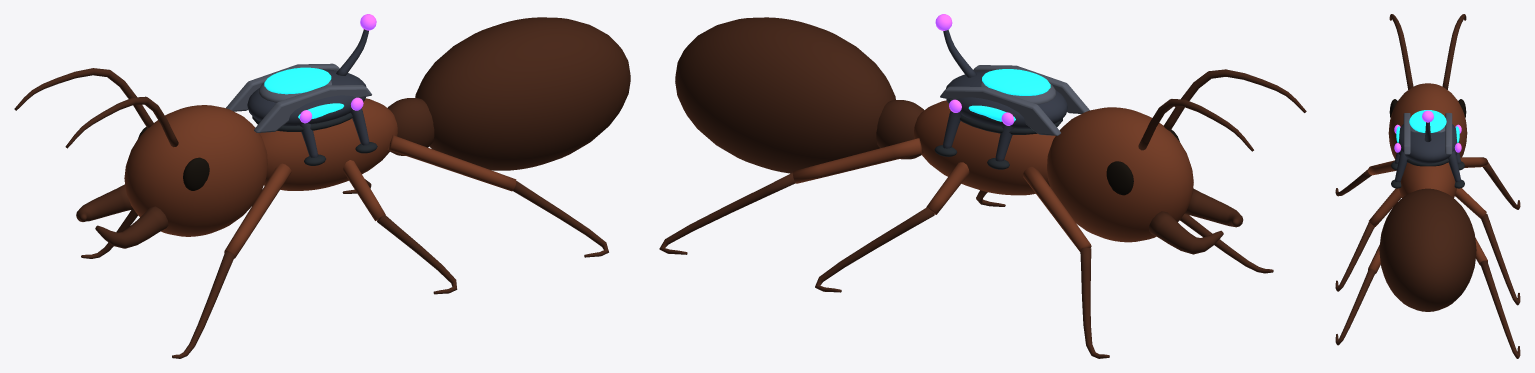
The model's file is controlled_ant.glb.
The picture shows the model from 3 angles, left to right: view 1: azimuth 30°, elevation 25°; view 2: azimuth 150°, elevation 25°; view 3: azimuth 270°, elevation 25°; orthographic projection. The views are drawn at different scales.
Visible parts, largest first — view 1: Gaster, Head, AlienControlDeviceGeometry, Thorax, Leg_-1_2Geometry, Leg_-1_0Geometry, Leg_-1_1Geometry, Petiole, Mandible_-1, ElbowedAntenna_1, Mandible_1, ElbowedAntenna_-1 (+1 smaller); view 2: Gaster, Head, AlienControlDeviceGeometry, Thorax, Leg_1_2Geometry, Leg_1_0Geometry, Leg_1_1Geometry, Petiole, Mandible_1, ElbowedAntenna_-1, Mandible_-1, ElbowedAntenna_1 (+2 smaller); view 3: Gaster, AlienControlDeviceGeometry, Head, Thorax, Leg_1_1Geometry, Leg_-1_1Geometry, Leg_1_2Geometry, Leg_-1_2Geometry, Leg_1_0Geometry, Leg_-1_0Geometry, ElbowedAntenna_1, ElbowedAntenna_-1.
Part boxes in pixels (box(x1,y1,x2,y2)): Gaster: box(415, 17, 630, 170); Head: box(124, 105, 267, 236); AlienControlDeviceGeometry: box(226, 14, 377, 165); Thorax: box(259, 98, 397, 190); Leg_-1_2Geometry: box(387, 135, 608, 257); Leg_-1_0Geometry: box(172, 163, 291, 358); Leg_-1_1Geometry: box(343, 160, 457, 294); Petiole: box(387, 98, 434, 155); Mandible_-1: box(95, 206, 168, 248); ElbowedAntenna_1: box(14, 68, 153, 128); Mandible_1: box(76, 184, 133, 221); ElbowedAntenna_-1: box(65, 96, 178, 148); Gaster: box(675, 17, 895, 173); Head: box(1047, 107, 1193, 242); AlienControlDeviceGeometry: box(934, 14, 1089, 169); Thorax: box(913, 100, 1055, 195); Leg_1_2Geometry: box(659, 138, 923, 254); Leg_1_0Geometry: box(1022, 166, 1109, 358); Leg_1_1Geometry: box(815, 162, 969, 292); Petiole: box(876, 100, 924, 159); Mandible_1: box(1149, 211, 1223, 254); ElbowedAntenna_-1: box(1163, 69, 1306, 130); Mandible_-1: box(1184, 188, 1243, 227); ElbowedAntenna_1: box(1138, 99, 1253, 151); Gaster: box(1379, 188, 1476, 311); AlienControlDeviceGeometry: box(1391, 110, 1464, 188); Head: box(1388, 83, 1467, 159); Thorax: box(1399, 162, 1456, 197); Leg_1_1Geometry: box(1455, 188, 1520, 305); Leg_-1_1Geometry: box(1335, 188, 1401, 291); Leg_1_2Geometry: box(1453, 197, 1520, 358); Leg_-1_2Geometry: box(1335, 244, 1380, 345); Leg_1_0Geometry: box(1460, 157, 1520, 209); Leg_-1_0Geometry: box(1335, 160, 1396, 196); ElbowedAntenna_1: box(1442, 14, 1466, 89); ElbowedAntenna_-1: box(1389, 14, 1413, 89).
Bounding box in the file's own units: 2.37 × 0.9202 × 0.8945.
